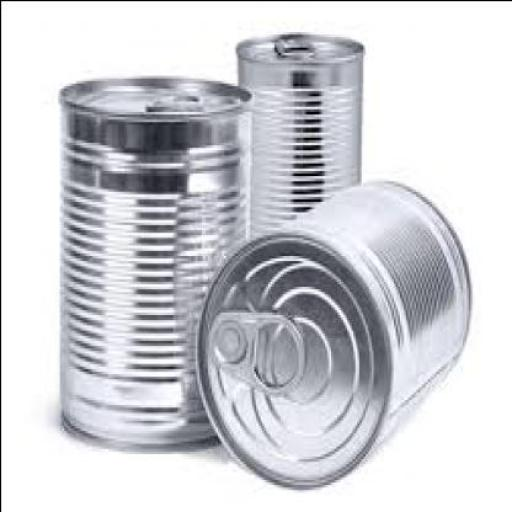metal: (194, 175, 474, 486), (58, 72, 256, 447), (236, 28, 364, 237)
